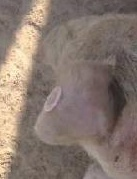text: (38, 81, 68, 120)
